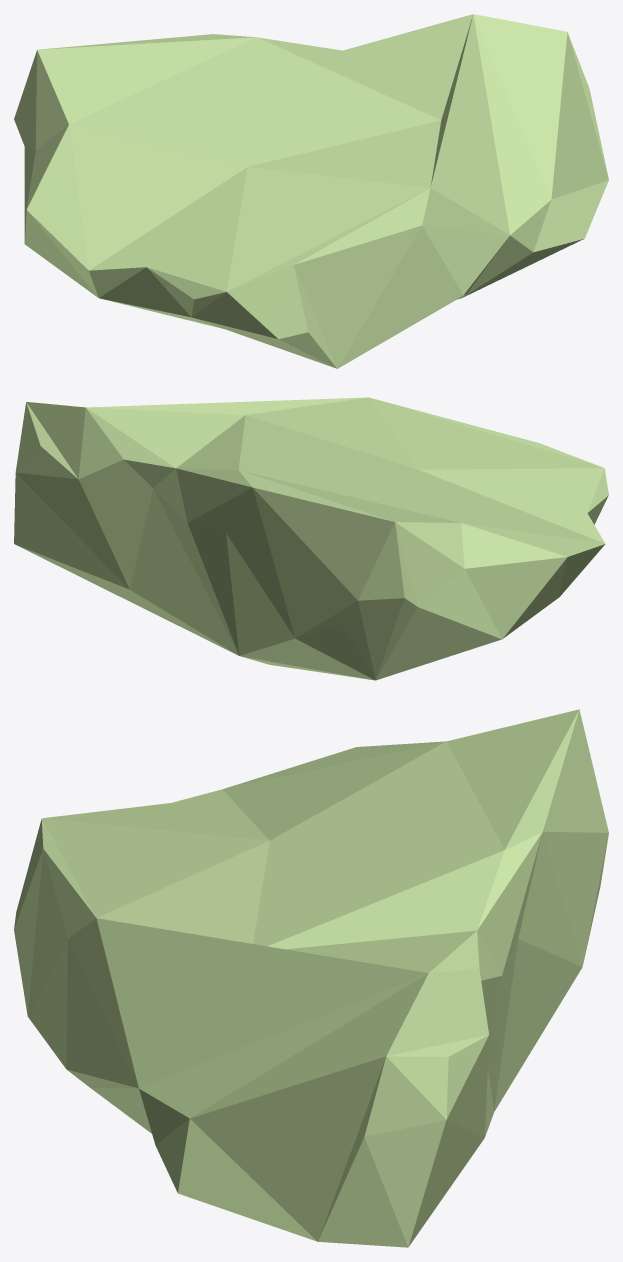
Rendered from SM_GLG_Rock_03_A.obj.
3 views of the same model, one above another, from view 1: azimuth 30°, elevation 25°; view 2: azimuth 150°, elevation 25°; view 3: azimuth 270°, elevation 25° (orthographic). The views are drawn at different scales.
Parts seen in each view (by area): view 1: SM_GLG_Rock_03_A; view 2: SM_GLG_Rock_03_A; view 3: SM_GLG_Rock_03_A.
Part boxes in pixels (left/top/right/bottom): SM_GLG_Rock_03_A: left=14, top=14, right=608, bottom=368; SM_GLG_Rock_03_A: left=14, top=397, right=608, bottom=680; SM_GLG_Rock_03_A: left=14, top=709, right=608, bottom=1247.
Size of the model in its own units: 216 by 84.59 by 148.
